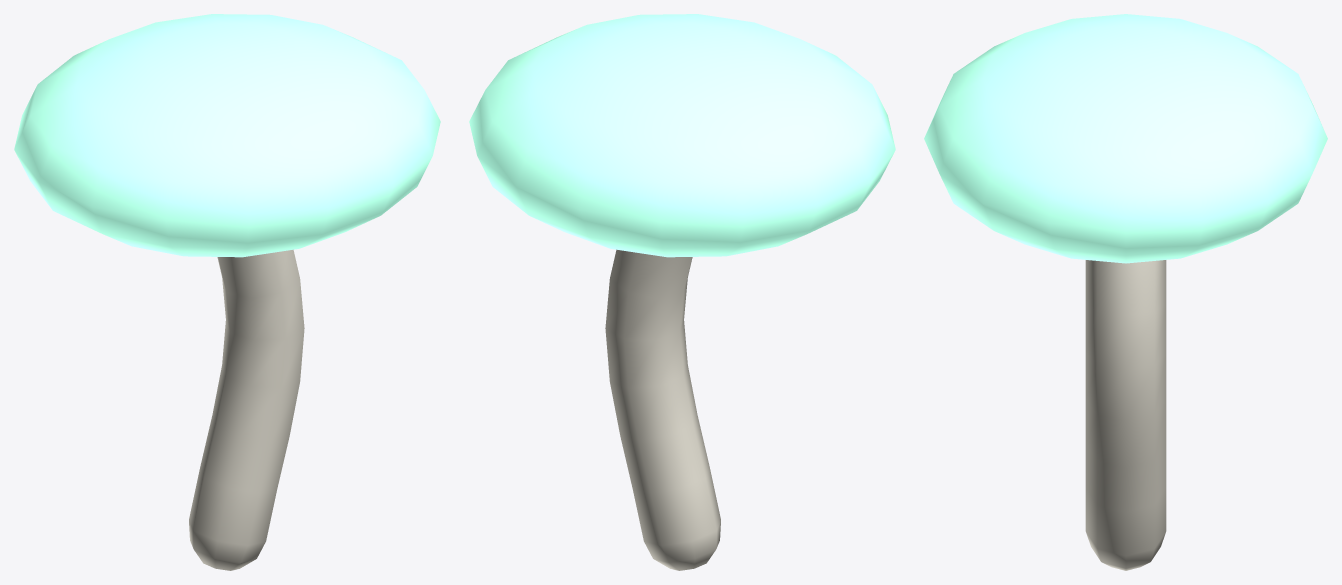
The model's file is mushroom_mint.glb.
3 views of the same model, side by side, from view 1: azimuth 30°, elevation 25°; view 2: azimuth 150°, elevation 25°; view 3: azimuth 270°, elevation 25° (orthographic).
Parts seen in each view (by area): view 1: Cap, Stalk; view 2: Cap, Stalk; view 3: Cap, Stalk.
Part boxes in pixels (x1=…): Cap: x1=14, y1=14, x2=440, y2=257; Stalk: x1=189, y1=249, x2=304, y2=570; Cap: x1=469, y1=14, x2=895, y2=257; Stalk: x1=605, y1=249, x2=720, y2=570; Cap: x1=924, y1=14, x2=1327, y2=263; Stalk: x1=1085, y1=260, x2=1166, y2=570.
Bounding box in the file's own units: 0.3 × 0.3923 × 0.28.
